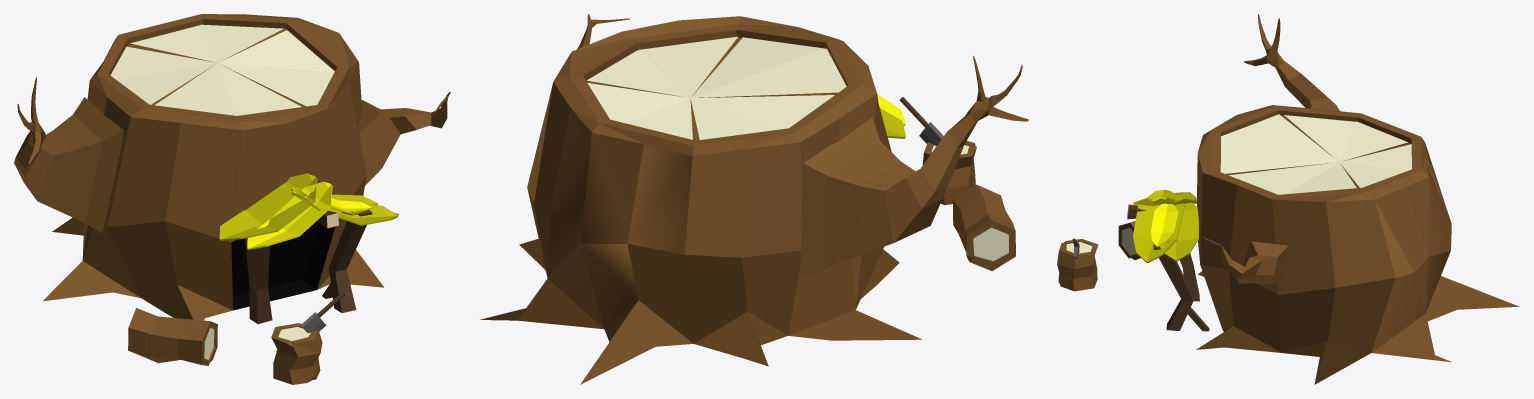
Rendered from Wood_house.fbx.
3 views of the same model, side by side, from view 1: azimuth 30°, elevation 25°; view 2: azimuth 150°, elevation 25°; view 3: azimuth 270°, elevation 25° (orthographic). The views are drawn at different scales.
Visible parts, largest first — view 1: Cube.014; view 2: Cube.014; view 3: Cube.014.
Part boxes in pixels (x1,y1,x2,y2): Cube.014: [14, 14, 450, 384]; Cube.014: [480, 14, 1028, 384]; Cube.014: [1057, 14, 1518, 384].
Bounding box in the file's own units: 7 × 8 × 4.
